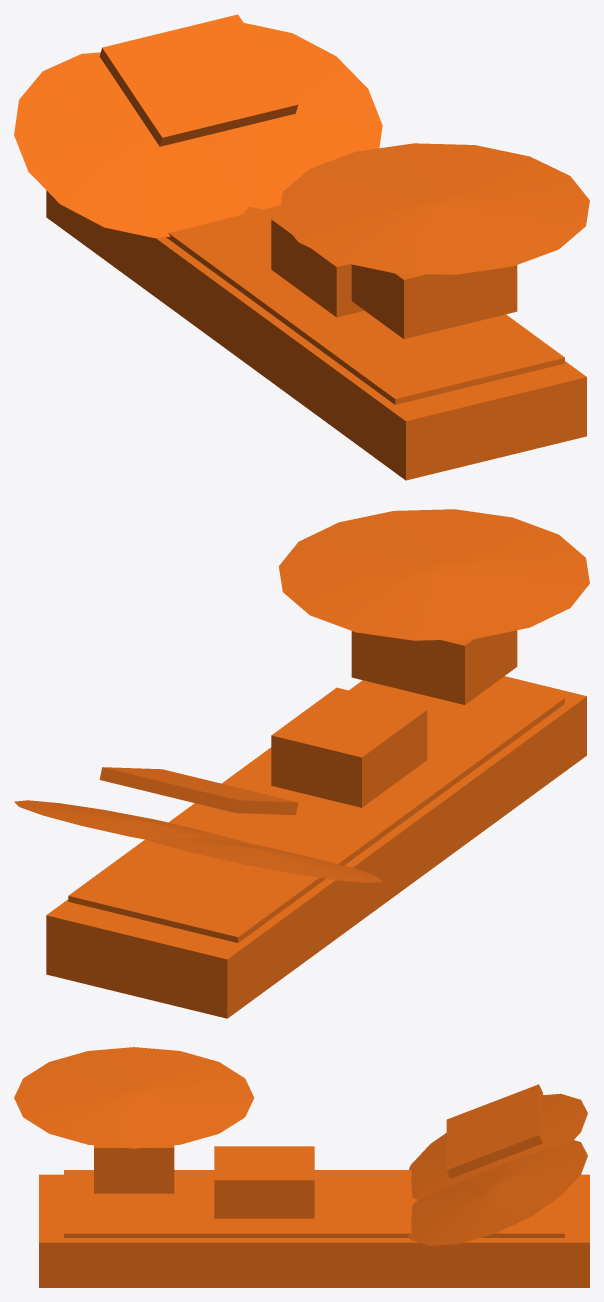
File: horizon.glb
The picture shows the model from 3 angles, top to bottom: view 1: azimuth 30°, elevation 25°; view 2: azimuth 150°, elevation 25°; view 3: azimuth 270°, elevation 25°; orthographic projection. The views are drawn at different scales.
Visible parts, largest first — view 1: hull, mastArray, aFrameSupport1, deck, aFrame, aFrameSupport2, bridge, labModule; view 2: hull, deck, mastArray, labModule, bridge, aFrame, aFrameSupport1, aFrameSupport2; view 3: hull, mastArray, deck, aFrameSupport2, labModule, aFrame, aFrameSupport1, bridge.
Boxes of the visible parts, <box> form: hull: <box>46,190,586,480</box>; mastArray: <box>278,143,589,274</box>; aFrameSupport1: <box>14,52,248,237</box>; deck: <box>166,205,564,404</box>; aFrame: <box>99,14,298,146</box>; aFrameSupport2: <box>204,23,382,209</box>; bridge: <box>351,264,517,338</box>; labModule: <box>271,217,364,317</box>; hull: <box>46,676,586,1018</box>; deck: <box>68,680,564,942</box>; mastArray: <box>279,509,589,640</box>; labModule: <box>271,687,427,807</box>; bridge: <box>351,630,517,704</box>; aFrame: <box>99,767,298,814</box>; aFrameSupport1: <box>148,838,382,883</box>; aFrameSupport2: <box>14,800,247,843</box>; hull: <box>39,1174,589,1287</box>; mastArray: <box>14,1047,254,1148</box>; deck: <box>64,1170,564,1237</box>; aFrameSupport2: <box>408,1140,587,1245</box>; labModule: <box>214,1146,314,1218</box>; aFrame: <box>446,1084,542,1178</box>; aFrameSupport1: <box>409,1093,587,1199</box>; bridge: <box>94,1145,174,1193</box>.
Size of the model in its own units: 30 by 18.3 by 57.5.
